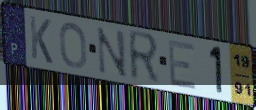1: (207, 44, 225, 99)
E: (167, 38, 198, 92)
K: (28, 14, 54, 67)
N: (96, 25, 129, 80)
O: (58, 20, 88, 70)
R: (127, 28, 161, 87)
